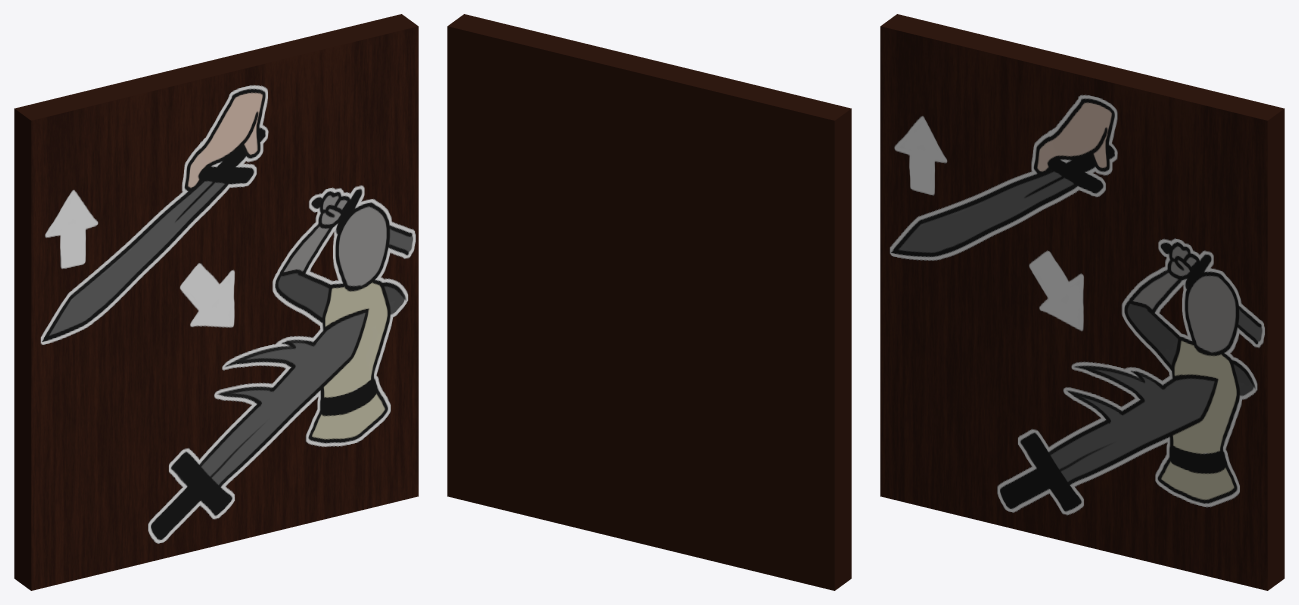
The model's file is SwordsTutBoard.fbx.
3 renders of one model, left to right at view 1: azimuth 30°, elevation 25°; view 2: azimuth 150°, elevation 25°; view 3: azimuth 330°, elevation 25°, orthographic.
Parts seen in each view (by area): view 1: pCube1; view 2: pCube1; view 3: pCube1.
Part boxes in pixels (x1,y1,x2,y2): pCube1: (14, 14, 418, 590); pCube1: (447, 14, 851, 590); pCube1: (880, 14, 1284, 590).
Bounding box in the file's own units: 40 × 46.4 × 3.
